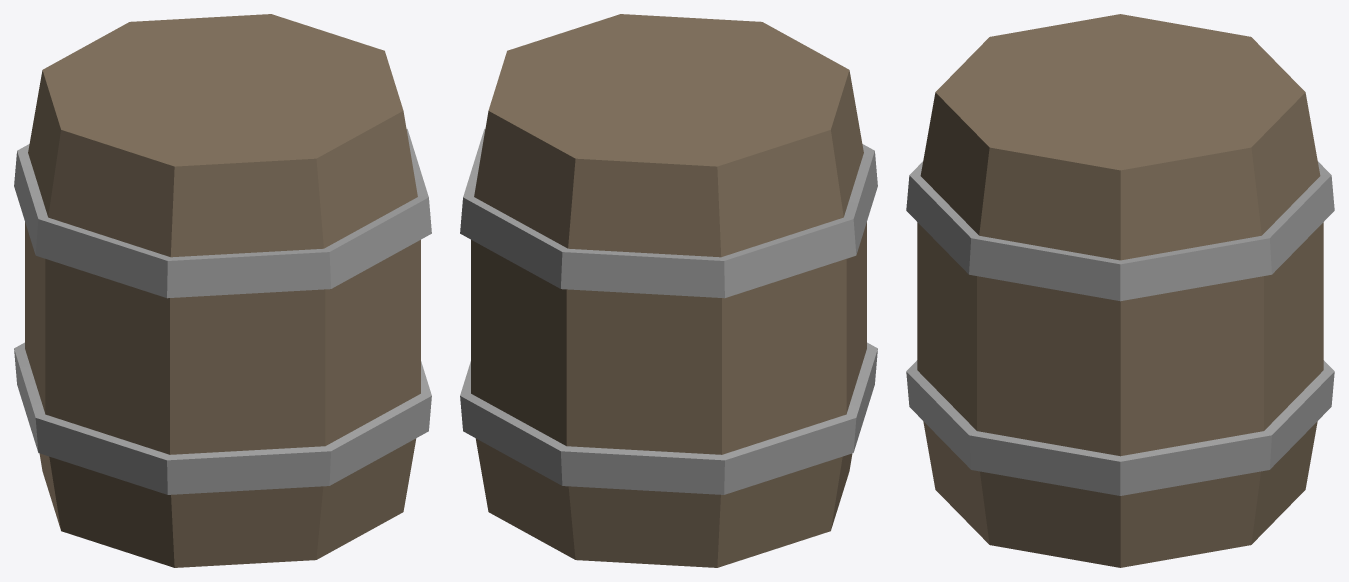
File: barrel.fbx
3 views of the same model, side by side, from view 1: azimuth 30°, elevation 25°; view 2: azimuth 150°, elevation 25°; view 3: azimuth 270°, elevation 25° (orthographic).
Parts seen in each view (by area): view 1: pCylinder9; view 2: pCylinder9; view 3: pCylinder9.
Boxes of the visible parts, <box> form: pCylinder9: <box>14,14,431,567</box>; pCylinder9: <box>460,14,877,567</box>; pCylinder9: <box>906,14,1334,567</box>.
Bounding box in the file's own units: 41.61 × 42.59 × 41.61.
